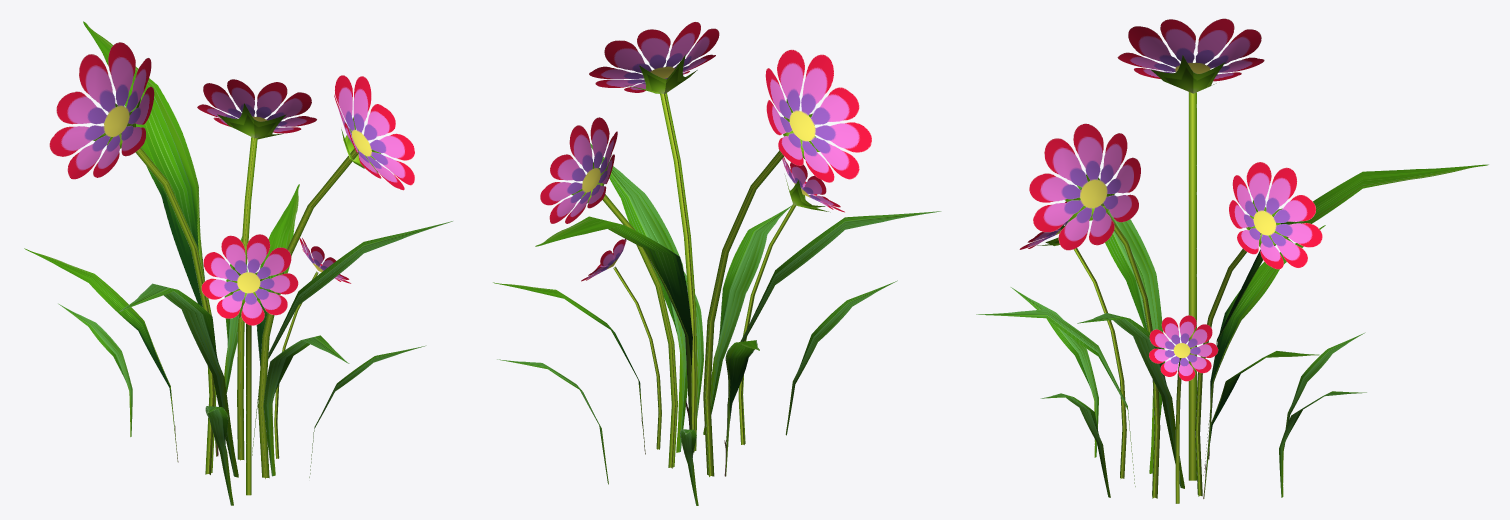
Rendered from Flower_06.FBX.
3 renders of one model, left to right at view 1: azimuth 30°, elevation 25°; view 2: azimuth 150°, elevation 25°; view 3: azimuth 270°, elevation 25°, orthographic. The views are drawn at different scales.
Visible parts, largest first — view 1: Flower_06; view 2: Flower_06; view 3: Flower_06.
Boxes of the visible parts, <box> form: Flower_06: <box>24,21,452,505</box>; Flower_06: <box>493,22,941,505</box>; Flower_06: <box>976,18,1488,503</box>.
Bounding box in the file's own units: 45.75 × 52.53 × 56.98.
